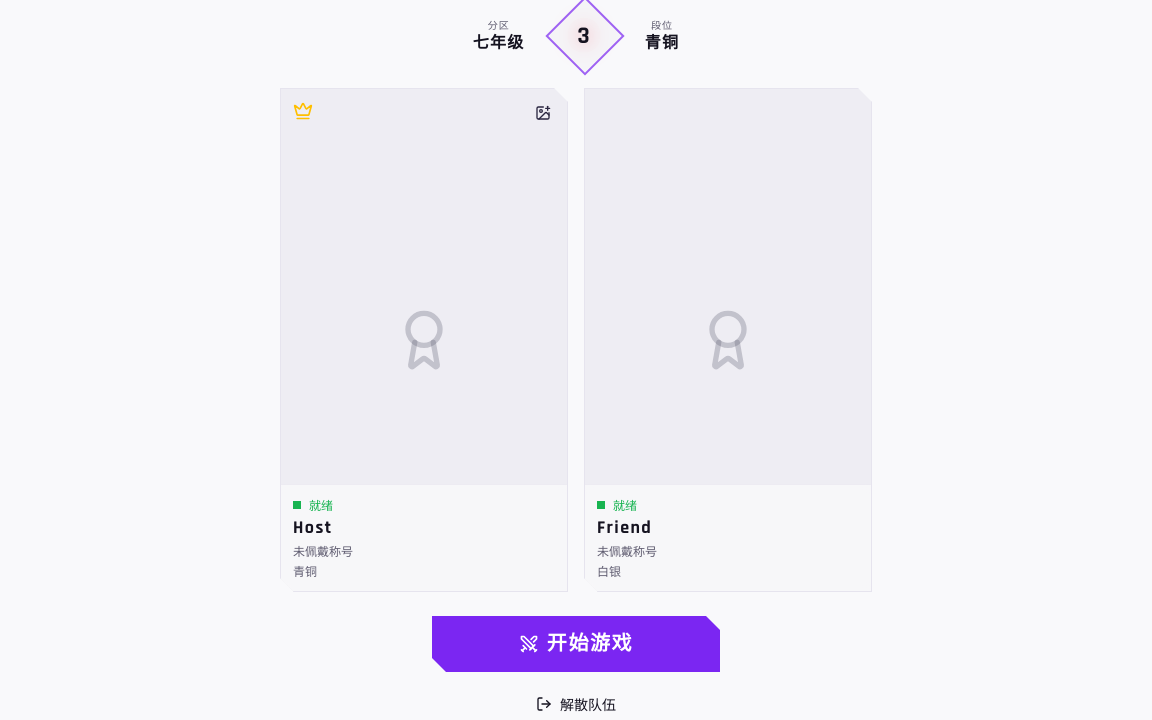
Test: 主大厅好友组队 › 房主已就绪仅能开始2v2，所有单人入口禁用
Later steps or results of the test are not shown.
Click the button "开始游戏" at coordinates (576, 644), box x1=432 y1=616 x2=720 y2=672
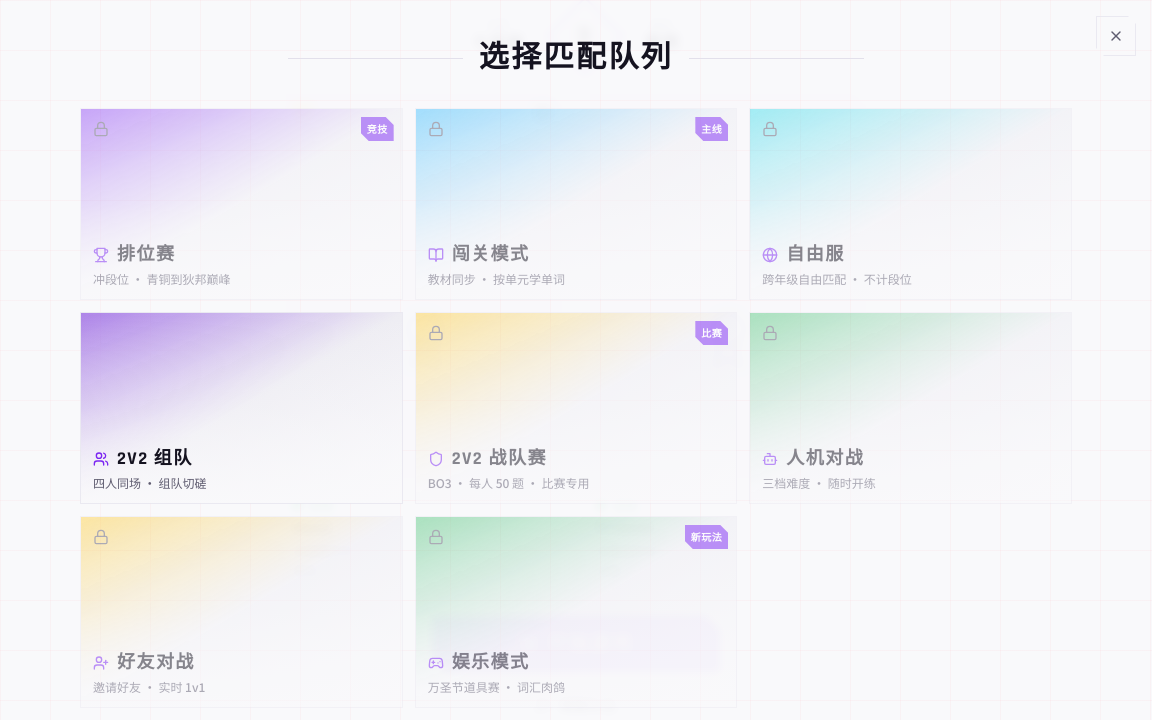
Expected: the button "竞技 排位赛 冲段位 · 青铜到狄邦巅峰" is disabled, x1=80 y1=108 x2=403 y2=300
Expected: the button "主线 闯关模式 教材同步 · 按单元学单词" is disabled, x1=415 y1=108 x2=737 y2=300
Expected: the button "自由服 跨年级自由匹配 · 不计段位" is disabled, x1=749 y1=108 x2=1072 y2=300
